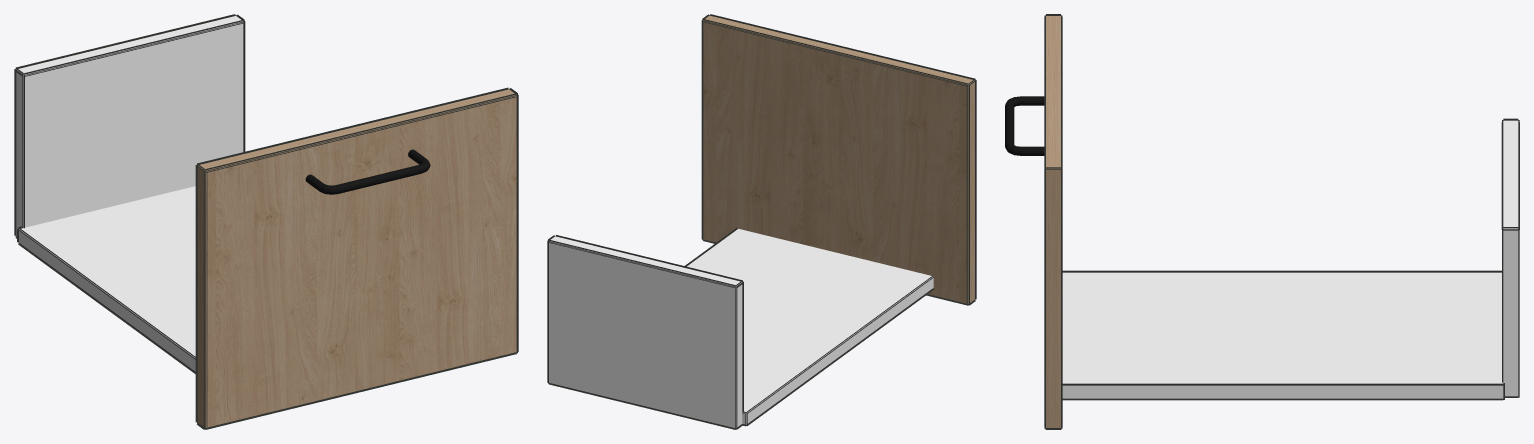
File: skuff2.glb
The picture shows the model from 3 angles, left to right: view 1: azimuth 30°, elevation 25°; view 2: azimuth 150°, elevation 25°; view 3: azimuth 270°, elevation 25°; orthographic projection. The views are drawn at different scales.
Bounding box in the file's own units: 393 × 311 × 554.
Materials: 7 (4 with a texture image).
